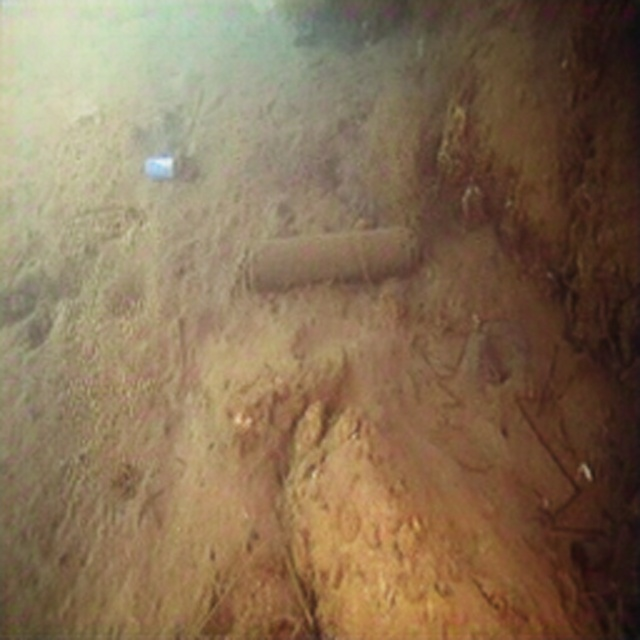mine: (238, 224, 418, 292)
